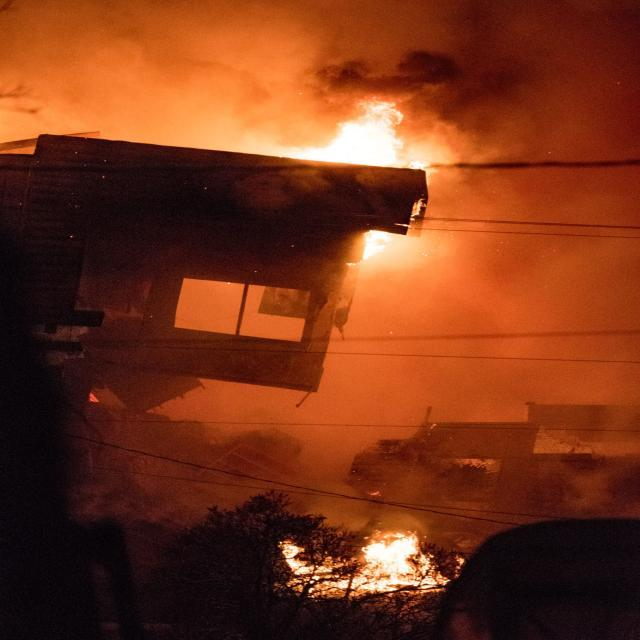Fire: (248, 90, 460, 286), (258, 521, 476, 605)
Smoke: (468, 96, 640, 512), (0, 0, 640, 94)
